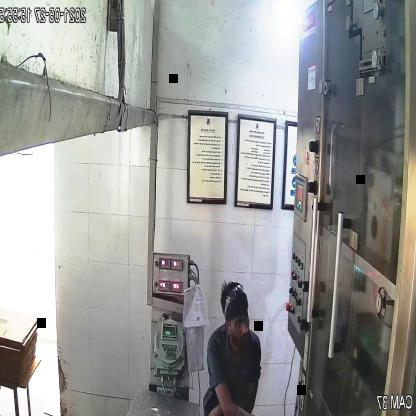no_goggles: (227, 308, 254, 334)
